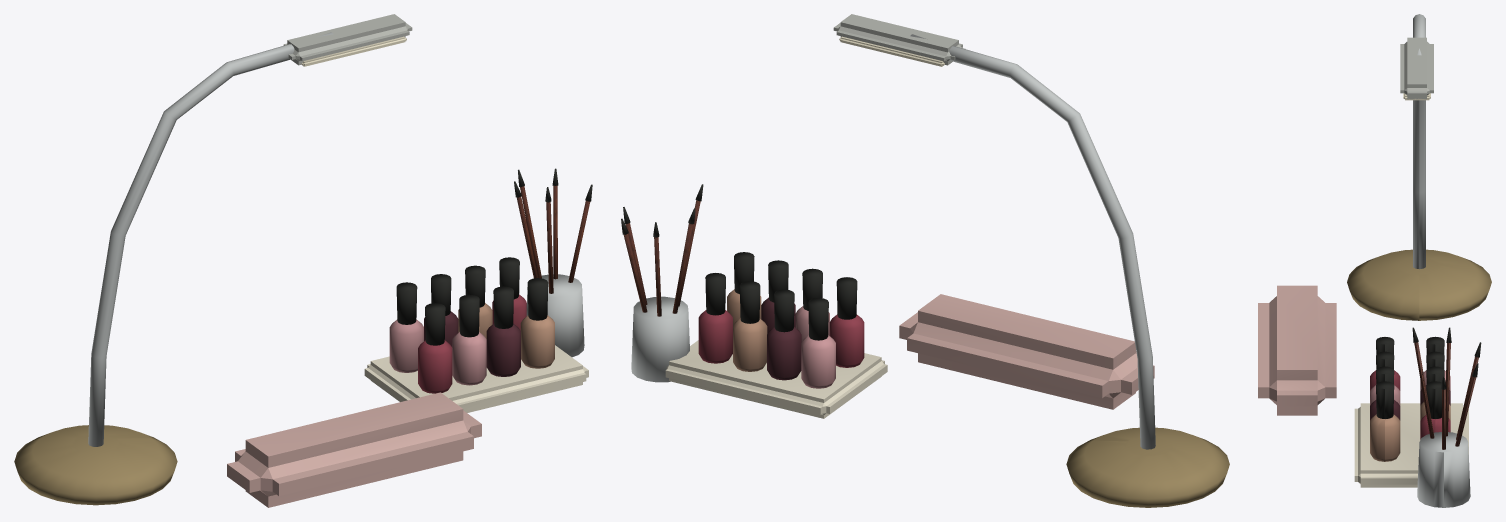
The model's file is manicure-tools.glb.
The picture shows the model from 3 angles, left to right: view 1: azimuth 30°, elevation 25°; view 2: azimuth 150°, elevation 25°; view 3: azimuth 270°, elevation 25°; orthographic projection. The views are drawn at different scales.
Parts seen in each view (by area): view 1: Frame; view 2: Frame; view 3: Frame.
Part boxes in pixels (box(x1,y1,x2,y2)): Frame: box(14, 14, 592, 507); Frame: box(621, 14, 1229, 507); Frame: box(1258, 14, 1491, 507).
Size of the model in its own units: 0.781 by 0.491 by 0.3065.
Materials: 12 (1 with a texture image).
